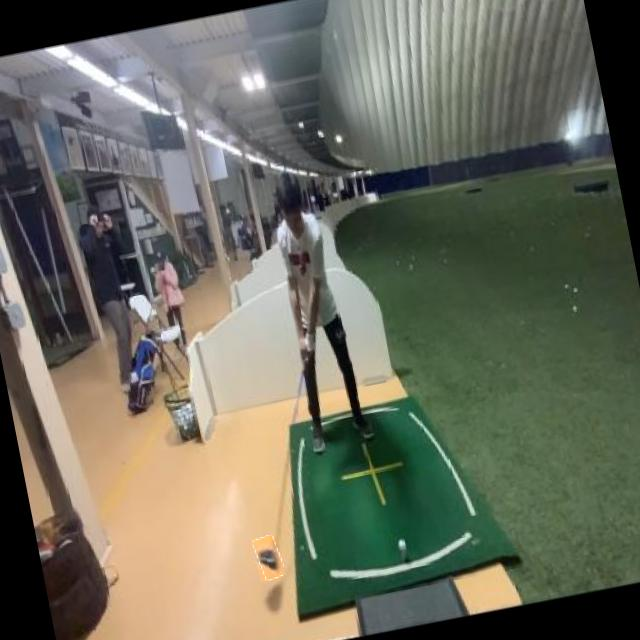club head: (252, 534, 286, 582)
